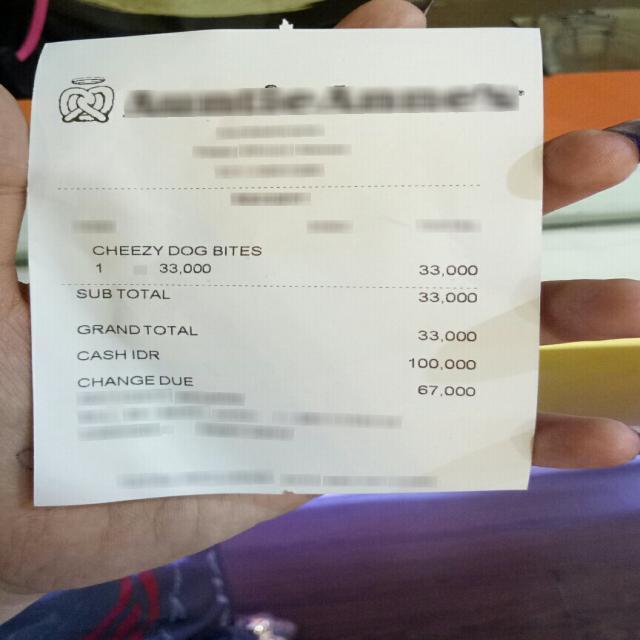kertas: (23, 21, 553, 507)
